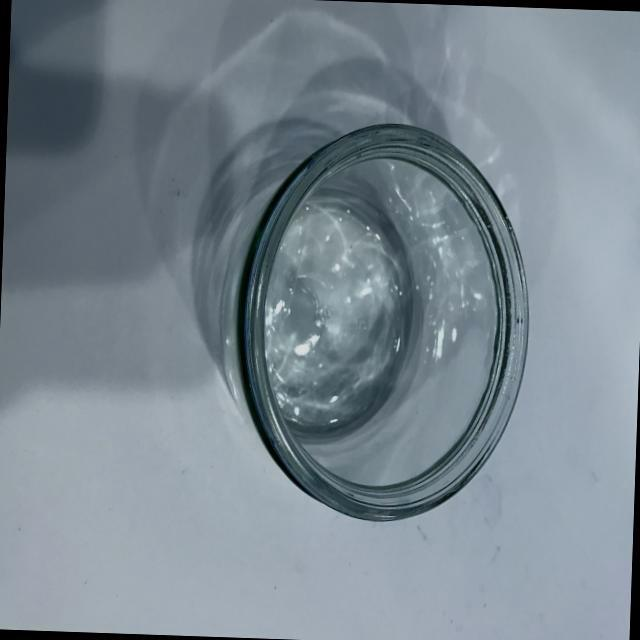glass: (176, 106, 544, 537)
